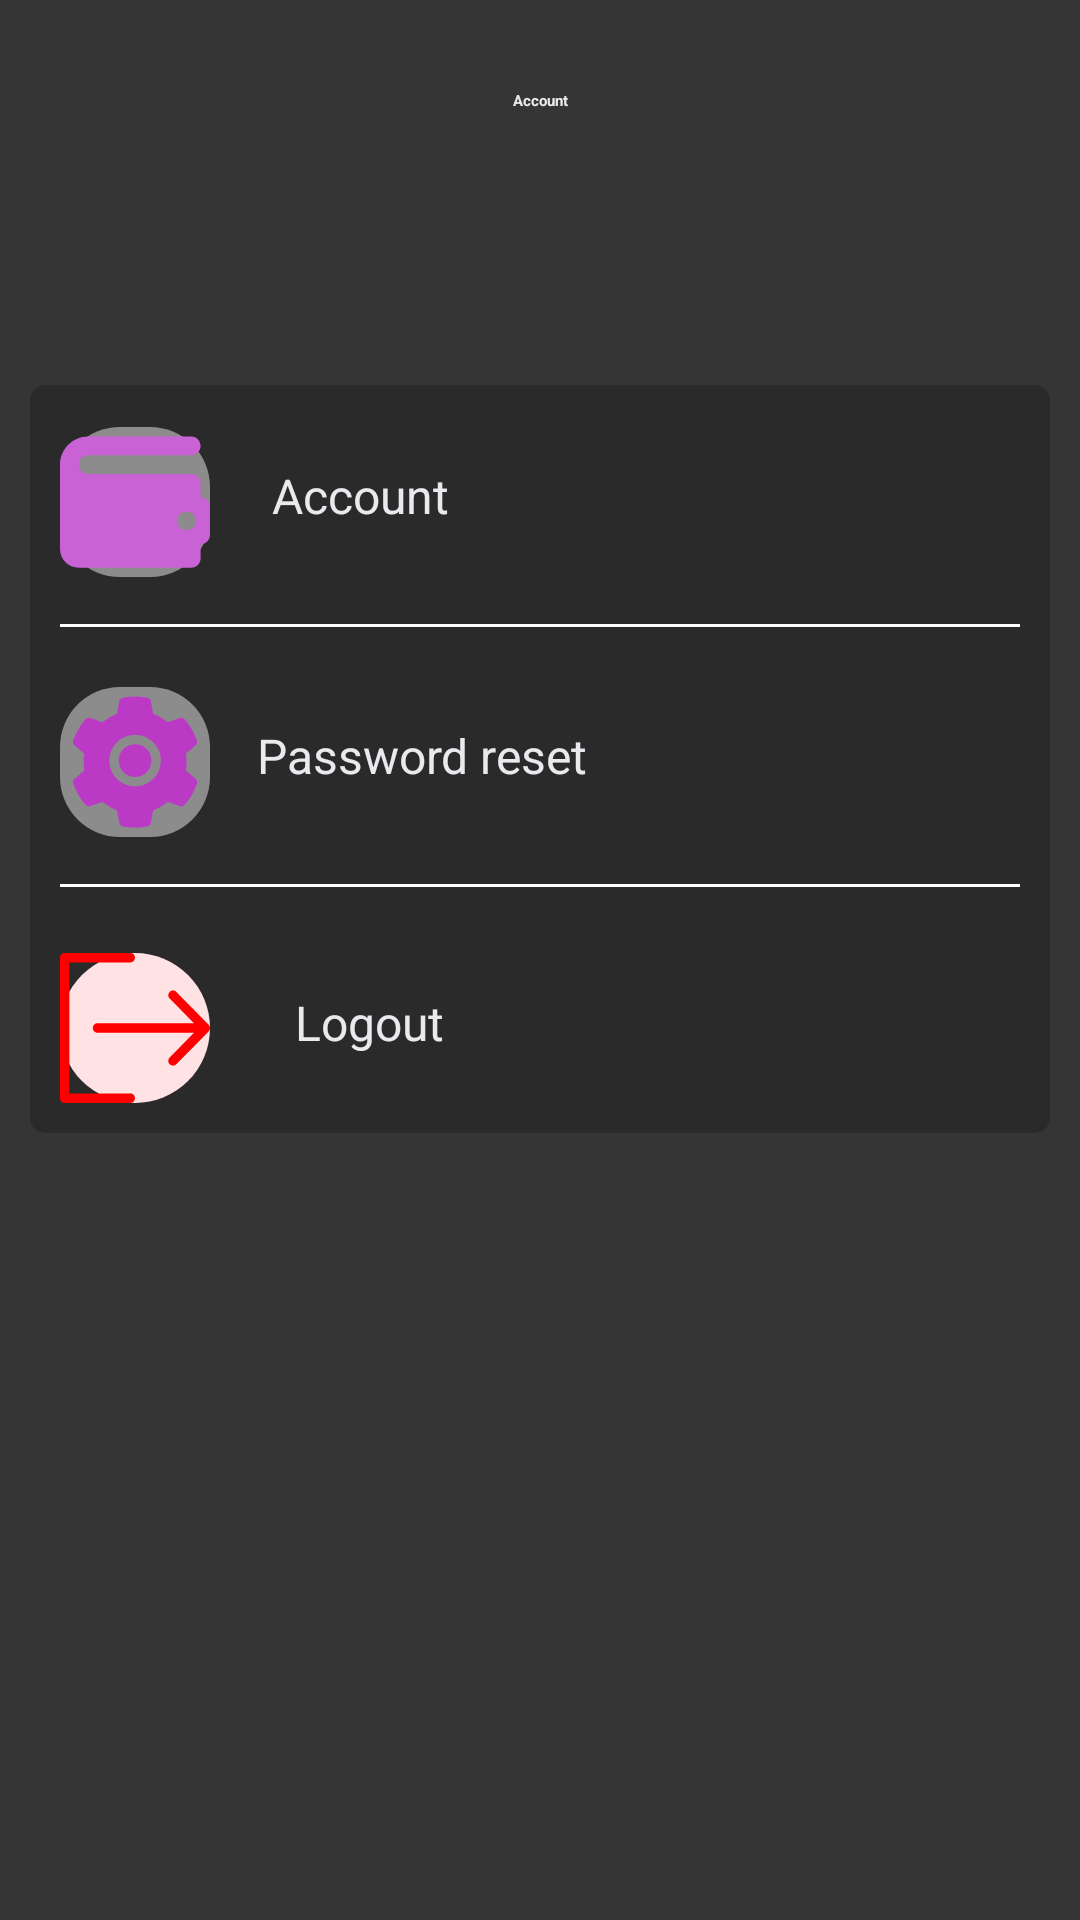

Icons on this 1080 × 1920 Android screen, each with the point to tap as point (x, y):
setting: point (135, 762)
wallet: point (135, 502)
